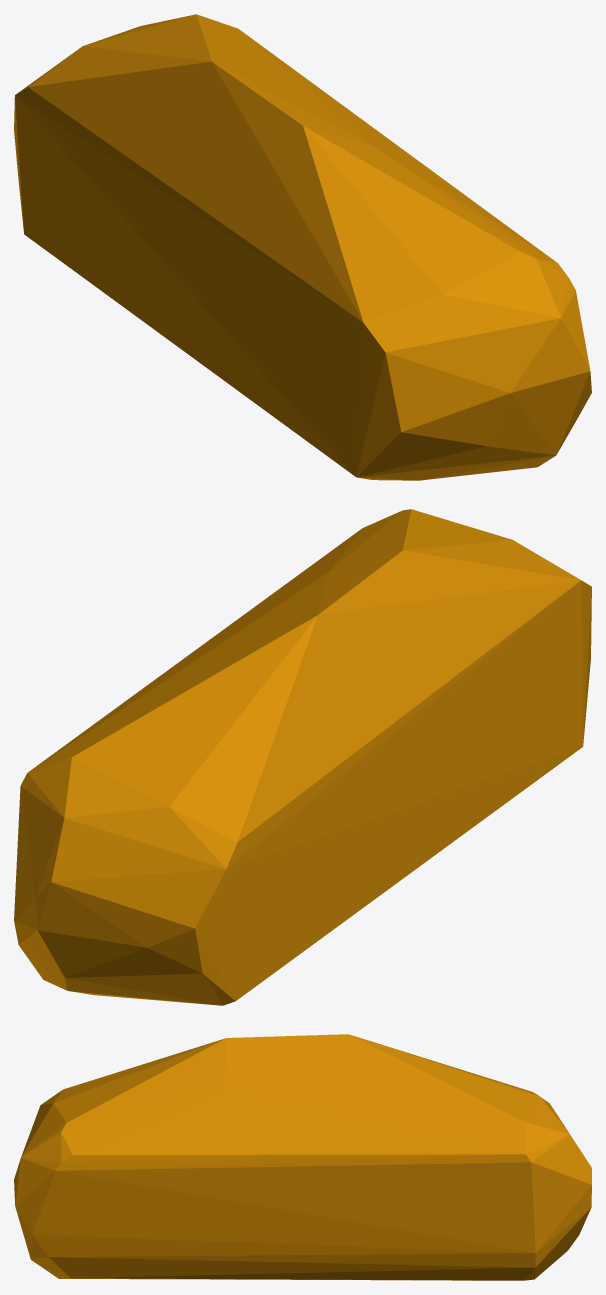
The model's file is camera_convex_piece_007.obj.
The picture shows the model from 3 angles, top to bottom: view 1: azimuth 30°, elevation 25°; view 2: azimuth 150°, elevation 25°; view 3: azimuth 270°, elevation 25°; orthographic projection. The views are drawn at different scales.
Size of the model in its own units: 0.0271 by 0.0356 by 0.0902.
